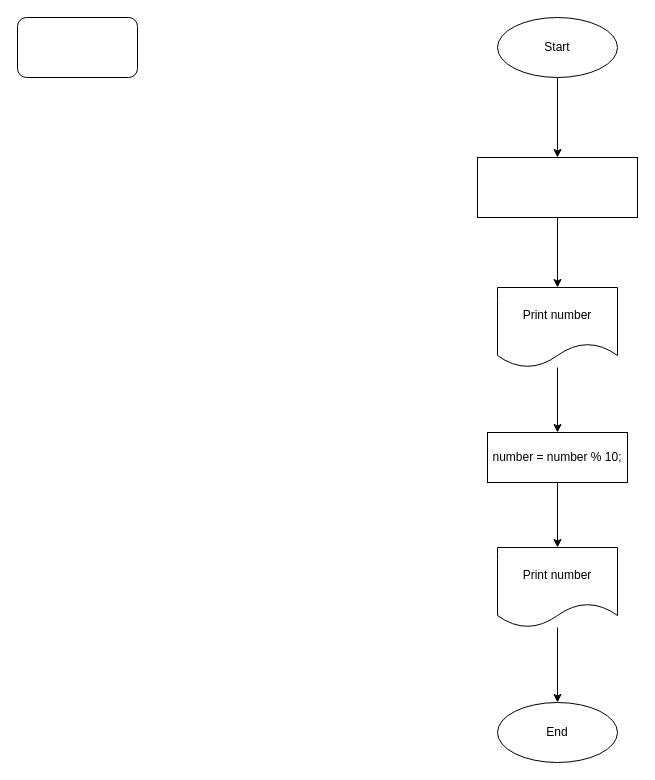
The diagram is 655 pixels wide and 780 high, and some of its shapes have lost their labels. The centre of each missing label's shape, as x and y in pixels:
"number = Randon(100,1000)" goes at (x=557, y=187).
"Показать последнюю цифру трёхзначного числа" goes at (x=77, y=47).
